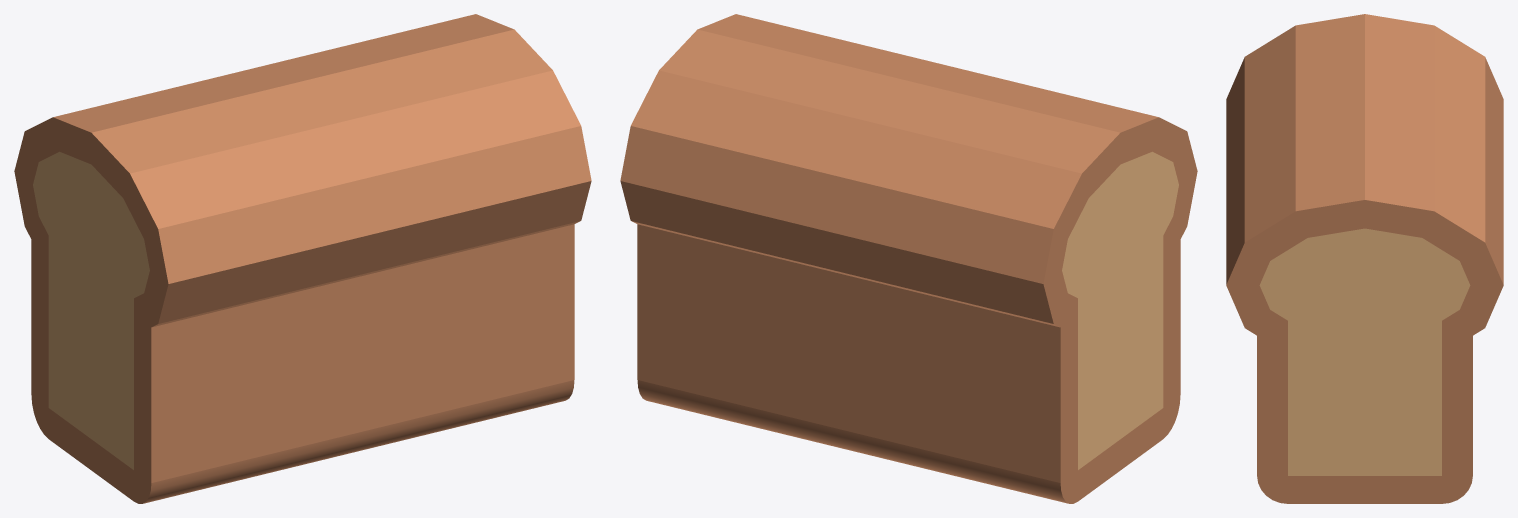
File: loaf.obj
3 renders of one model, left to right at view 1: azimuth 30°, elevation 25°; view 2: azimuth 150°, elevation 25°; view 3: azimuth 270°, elevation 25°, orthographic. The views are drawn at different scales.
Parts seen in each view (by area): view 1: loaf; view 2: loaf; view 3: loaf.
Part boxes in pixels (box(x1,y1,x2,y2)): loaf: box(14, 14, 591, 503); loaf: box(620, 14, 1197, 503); loaf: box(1226, 14, 1503, 503).
Size of the model in its own units: 0.5797 by 0.4423 by 0.3659.
